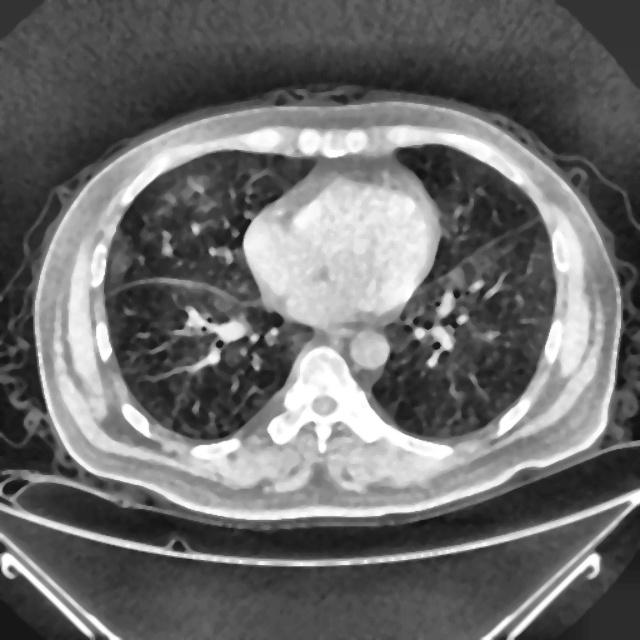covid: (30, 85, 626, 529)
